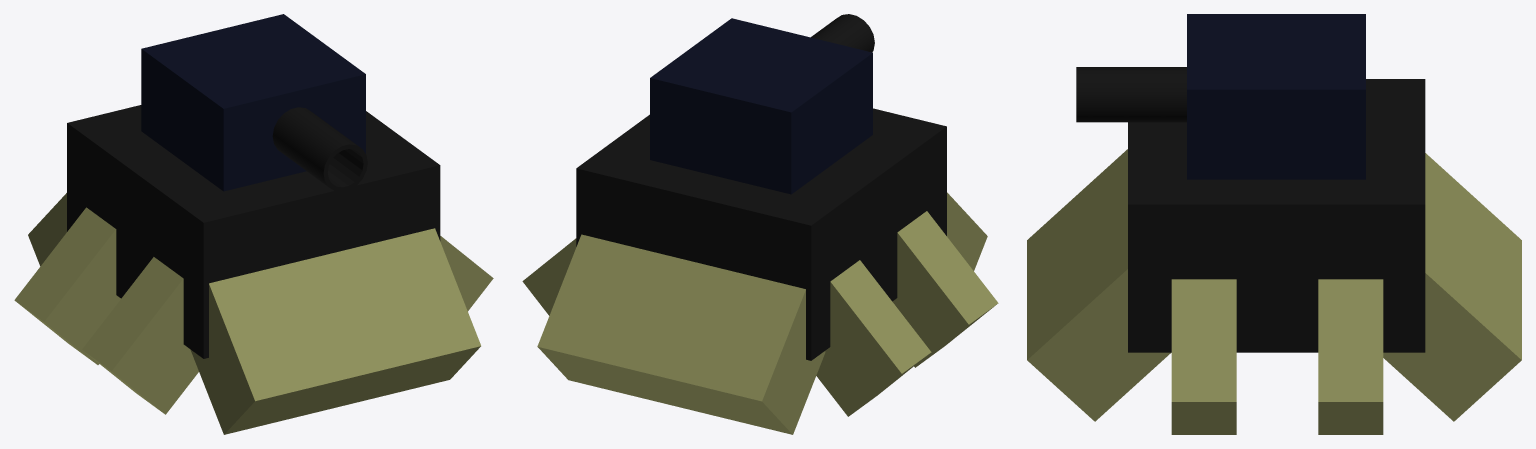
File: Turret.FBX
3 renders of one model, left to right at view 1: azimuth 30°, elevation 25°; view 2: azimuth 150°, elevation 25°; view 3: azimuth 270°, elevation 25°, orthographic. The views are drawn at different scales.
Visible parts, largest first — view 1: Box002, Cylinder001; view 2: Box002, Cylinder001; view 3: Box002, Cylinder001.
Part boxes in pixels (bbox=[...]): Box002: bbox=[14, 14, 493, 434]; Cylinder001: bbox=[272, 107, 367, 191]; Box002: bbox=[522, 18, 998, 434]; Cylinder001: bbox=[811, 14, 874, 52]; Box002: bbox=[1027, 14, 1521, 434]; Cylinder001: bbox=[1076, 67, 1186, 122].
Size of the model in its own units: 64.6 by 46.03 by 66.57.
